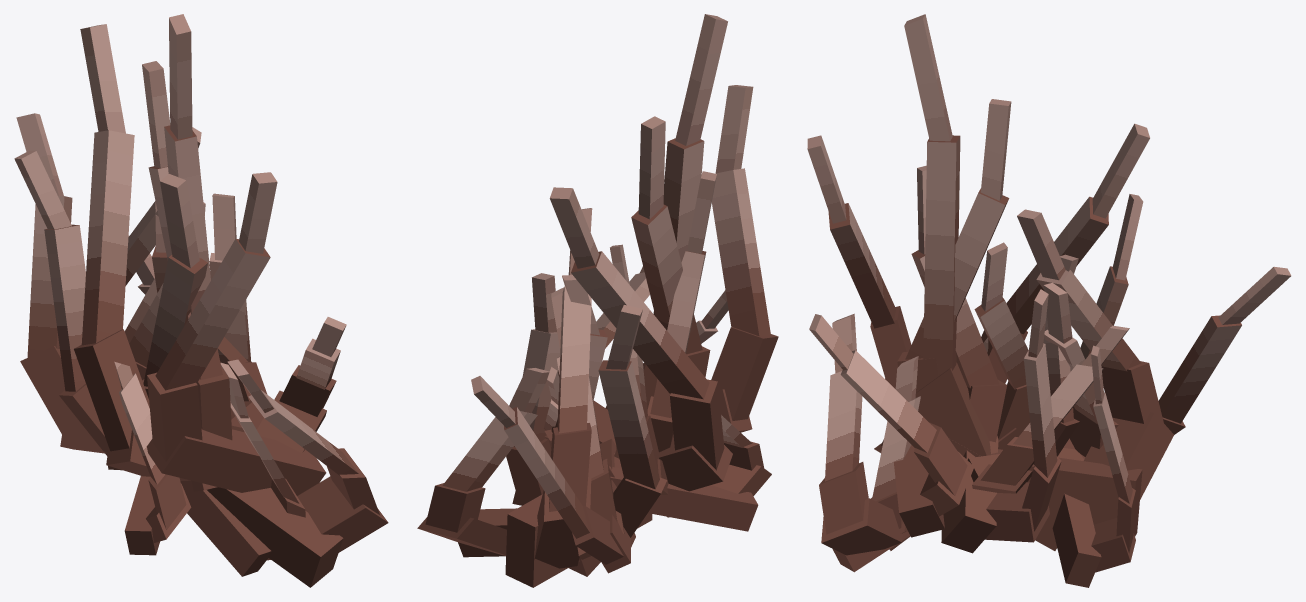
Rendered from root wall.fbx.
The picture shows the model from 3 angles, left to right: view 1: azimuth 30°, elevation 25°; view 2: azimuth 150°, elevation 25°; view 3: azimuth 270°, elevation 25°; orthographic projection. The views are drawn at different scales.
Visible parts, largest first — view 1: mesh_4, mesh_6, mesh_10, mesh_7, mesh_1, mesh_5, mesh, mesh_11, mesh_2; view 2: mesh, mesh_6, mesh_1, mesh_4, mesh_2, mesh_11, mesh_7, mesh_10, mesh_5; view 3: mesh, mesh_4, mesh_6, mesh_10, mesh_7, mesh_2, mesh_1, mesh_5, mesh_11.
Boxes of the visible parts, box(x1,y1,x2,y2) form: mesh_4: box(147, 172, 346, 495); mesh_6: box(74, 24, 251, 480); mesh_10: box(142, 174, 388, 587); mesh_7: box(16, 113, 267, 453); mesh_1: box(14, 150, 122, 470); mesh_5: box(129, 202, 305, 576); mesh: box(125, 14, 217, 349); mesh_11: box(114, 201, 191, 555); mesh_2: box(125, 61, 232, 491); mesh: box(505, 14, 727, 587); mesh_6: box(506, 187, 732, 505); mesh_1: box(417, 305, 667, 557); mesh_4: box(558, 85, 778, 445); mesh_2: box(551, 116, 710, 576); mesh_11: box(544, 275, 771, 531); mesh_7: box(471, 367, 630, 573); mesh_10: box(605, 171, 728, 452); mesh_5: box(610, 244, 669, 517); mesh: box(904, 14, 1173, 536); mesh_4: box(807, 135, 974, 537); mesh_6: box(941, 123, 1149, 553); mesh_10: box(819, 165, 1007, 572); mesh_7: box(967, 266, 1291, 493); mesh_2: box(897, 99, 1118, 550); mesh_1: box(1052, 194, 1143, 587); mesh_5: box(871, 242, 1030, 550); mesh_11: box(874, 254, 1079, 464).
Bounding box in the file's own units: 68.87 × 149 × 129.
Materials: 1 (1 with a texture image).
